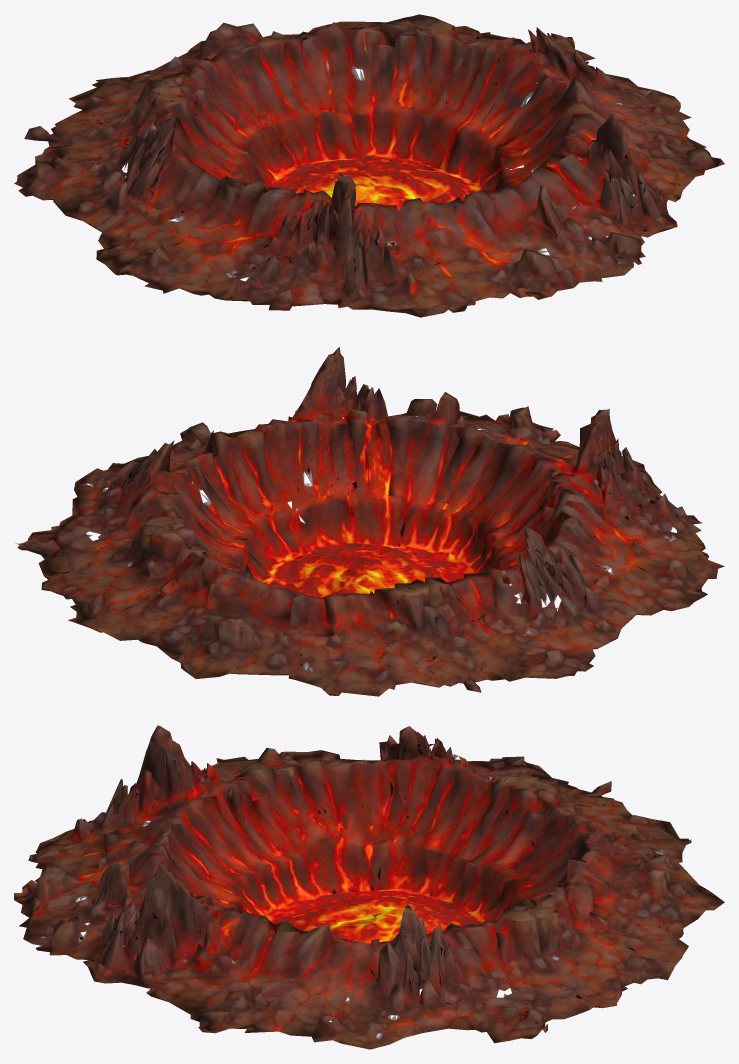
Rendered from lava_crater.glb.
The picture shows the model from 3 angles, top to bottom: view 1: azimuth 30°, elevation 25°; view 2: azimuth 150°, elevation 25°; view 3: azimuth 270°, elevation 25°; orthographic projection. The views are drawn at different scales.
Parts seen in each view (by area): view 1: lava_crater; view 2: lava_crater; view 3: lava_crater.
Part boxes in pixels (left/top/right/bottom): lava_crater: left=14, top=14, right=724, bottom=317; lava_crater: left=16, top=347, right=724, bottom=696; lava_crater: left=14, top=725, right=724, bottom=1049.
Size of the model in its own units: 0.939 by 0.2114 by 0.9482.
1 material, 1 textured.
